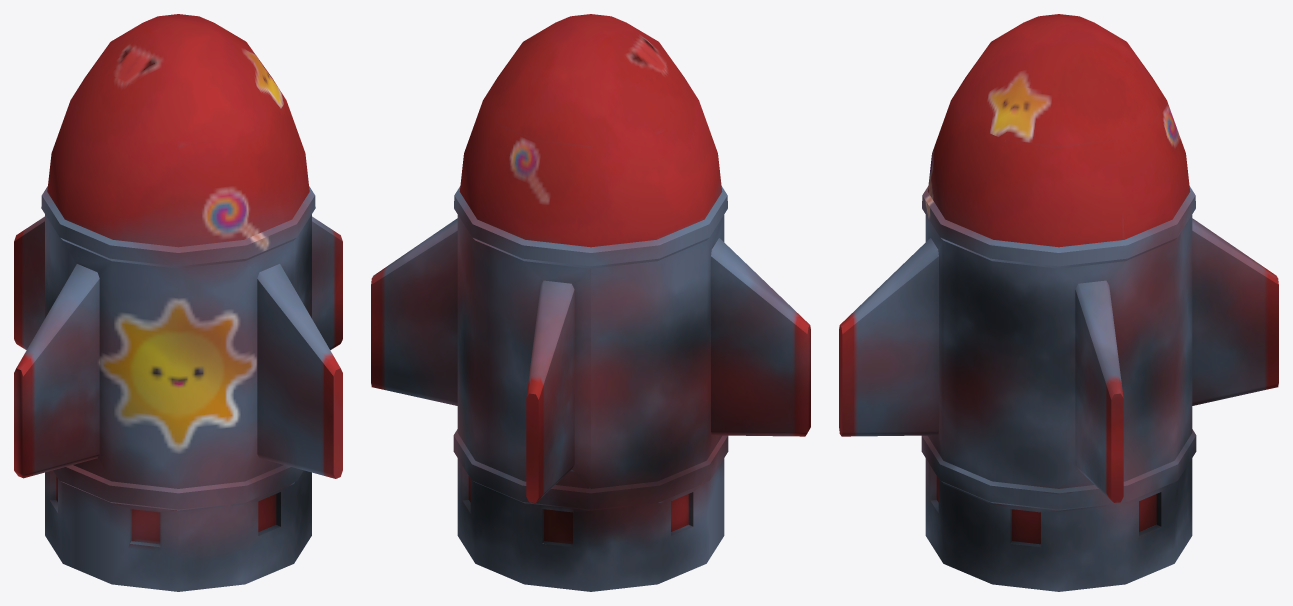
File: bam_model.FBX
The picture shows the model from 3 angles, left to right: view 1: azimuth 30°, elevation 25°; view 2: azimuth 150°, elevation 25°; view 3: azimuth 270°, elevation 25°; orthographic projection.
Visible parts, largest first — view 1: node_id34; view 2: node_id34; view 3: node_id34.
Boxes of the visible parts, x1,y1,x2,y2 form: node_id34: [14, 14, 342, 591]; node_id34: [371, 14, 810, 591]; node_id34: [839, 14, 1278, 591].
Bounding box in the file's own units: 35.74 × 46.03 × 35.74.
Materials: 1 (1 with a texture image).
